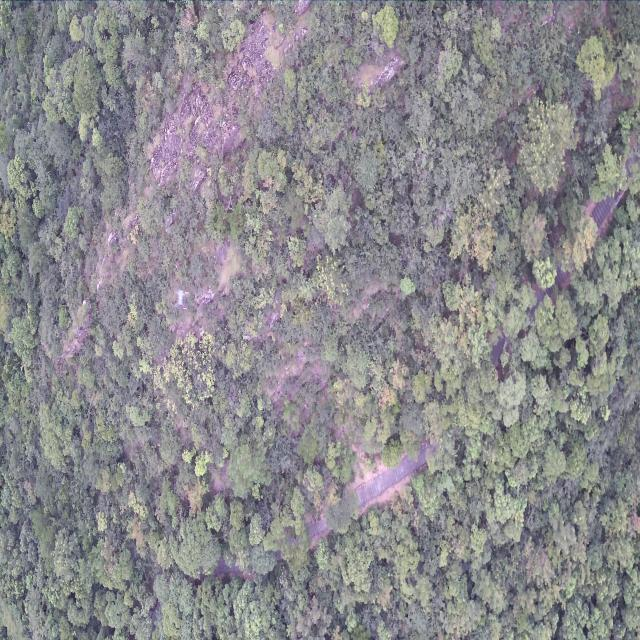drone: (173, 289, 189, 311)
